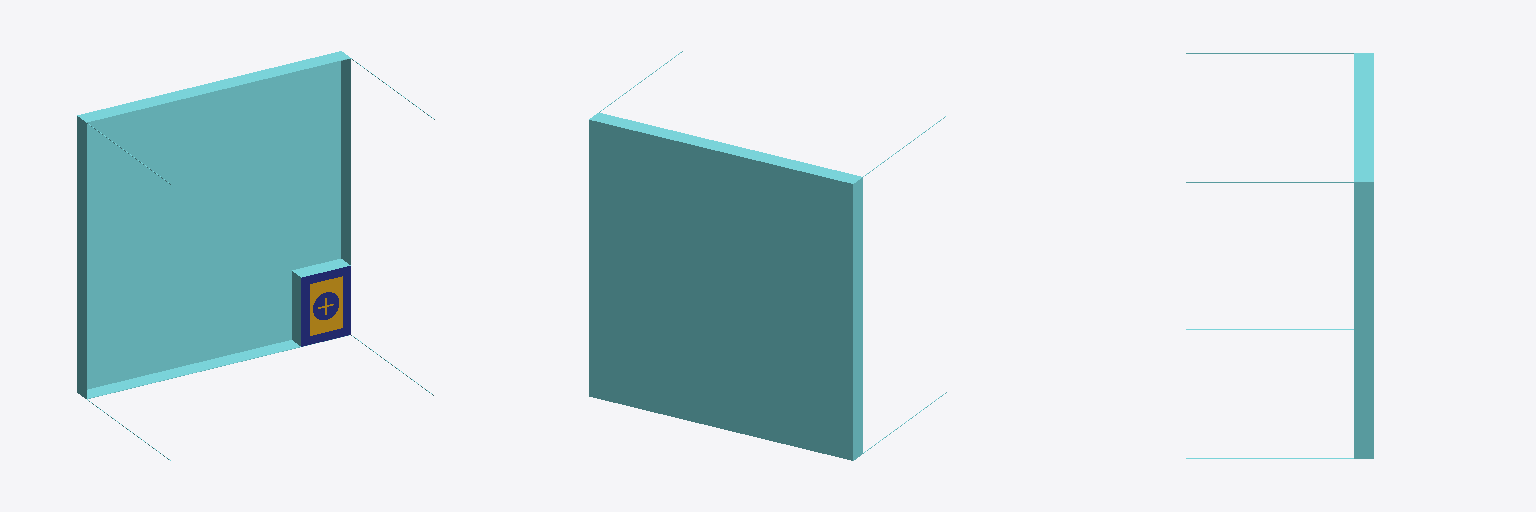
File: Arena.obj
The picture shows the model from 3 angles: view 1: azimuth 30°, elevation 25°; view 2: azimuth 150°, elevation 25°; view 3: azimuth 270°, elevation 25°; orthographic projection.
Parts seen in each view (by area): view 1: ground_Body1.019, arena_frame_Body1, cost_base_blue_frame_Body1.011, cost_base_yellow_frame_Body2.001, cost_base_Body1.013; view 2: ground_Body1.019, arena_frame_Body1; view 3: arena_frame_Body1.
Part boxes in pixels (x1,y1,x2,y2): ground_Body1.019: (77,51,340,389); arena_frame_Body1: (77,51,434,460); cost_base_blue_frame_Body1.011: (301,266,350,346); cost_base_yellow_frame_Body2.001: (310,276,342,335); cost_base_Body1.013: (292,259,350,345); ground_Body1.019: (589,120,853,460); arena_frame_Body1: (589,51,946,459); arena_frame_Body1: (1186,53,1372,458).
Bounding box in the file's own units: 8 × 8 × 4.91.